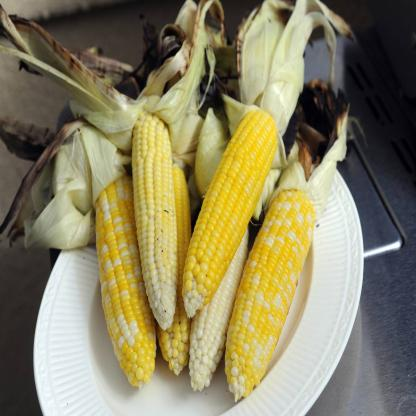---: (181, 106, 280, 321), (226, 190, 320, 404), (89, 176, 156, 398)
